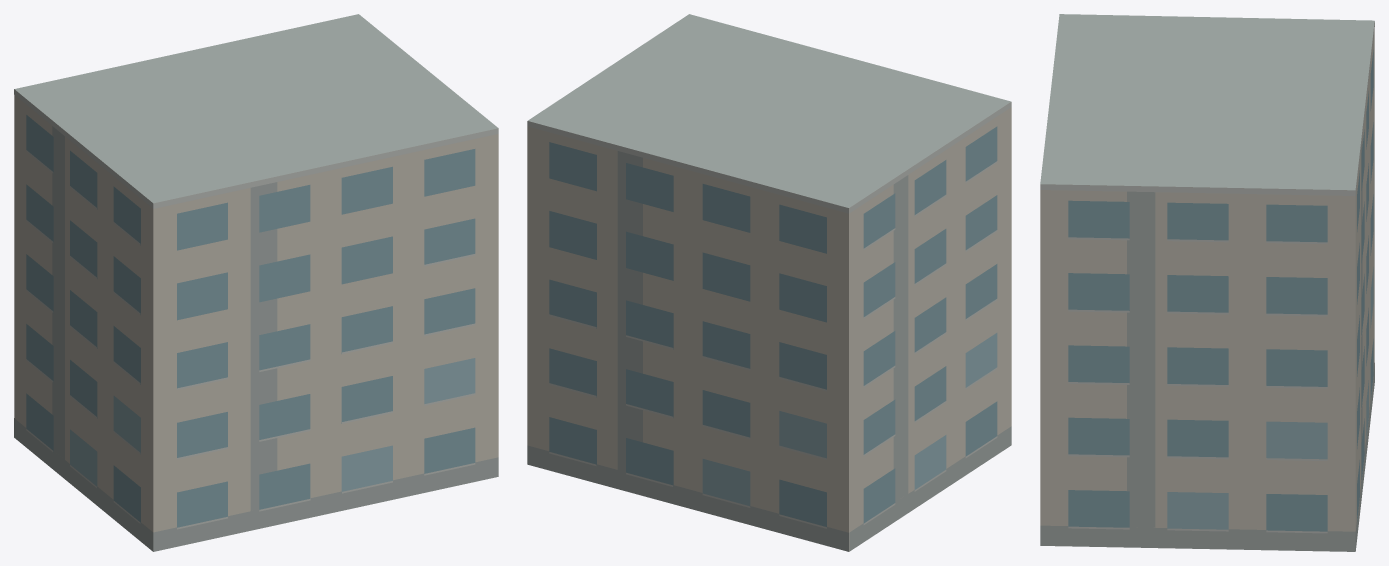
The model's file is survey-upis-32499338.glb.
The picture shows the model from 3 angles, left to right: view 1: azimuth 30°, elevation 25°; view 2: azimuth 150°, elevation 25°; view 3: azimuth 270°, elevation 25°; orthographic projection. The views are drawn at different scales.
Visible parts, largest first — view 1: survey-upis-32499338.tmp; view 2: survey-upis-32499338.tmp; view 3: survey-upis-32499338.tmp.
Part boxes in pixels (left/top/right/bottom): survey-upis-32499338.tmp: left=14, top=14, right=498, bottom=551; survey-upis-32499338.tmp: left=527, top=14, right=1011, bottom=551; survey-upis-32499338.tmp: left=1040, top=14, right=1374, bottom=551.
Bounding box in the file's own units: 15.95 × 15.25 × 12.8.
